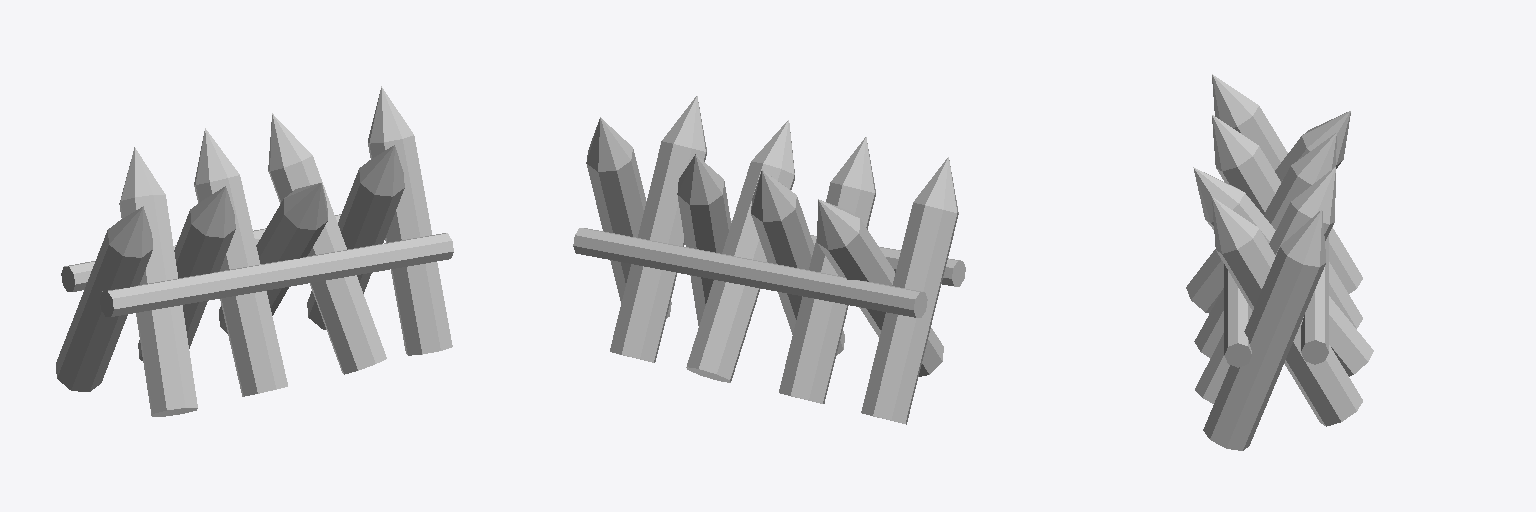
The model's file is Spike 2.obj.
3 views of the same model, side by side, from view 1: azimuth 30°, elevation 25°; view 2: azimuth 150°, elevation 25°; view 3: azimuth 270°, elevation 25° (orthographic).
Visible parts, largest first — view 1: Support_2_2, Spike_7_2, Spike_1_2, Spike_5_2, Spike_3_2, Spike_8_2, Spike_2_2, Spike_6_2, Spike_4_2, Support_bar_1_2; view 2: Spike_8_2, Support_bar_1_2, Spike_2_2, Spike_4_2, Spike_6_2, Spike_1_2, Spike_7_2, Spike_5_2, Spike_3_2, Support_2_2; view 3: Spike_1_2, Spike_2_2, Spike_6_2, Spike_4_2, Spike_8_2, Spike_3_2, Spike_5_2, Spike_7_2, Support_bar_1_2, Support_2_2.
Part boxes in pixels (left/top/right/bottom): Support_2_2: left=100, top=233, right=453, bottom=316; Spike_7_2: left=119, top=147, right=197, bottom=416; Spike_1_2: left=368, top=86, right=452, bottom=355; Spike_5_2: left=194, top=128, right=287, bottom=396; Spike_3_2: left=268, top=113, right=386, bottom=374; Spike_8_2: left=56, top=206, right=152, bottom=391; Spike_2_2: left=307, top=145, right=404, bottom=329; Spike_6_2: left=138, top=186, right=235, bottom=360; Spike_4_2: left=219, top=183, right=327, bottom=333; Support_bar_1_2: left=61, top=214, right=340, bottom=291; Spike_8_2: left=861, top=157, right=958, bottom=424; Support_bar_1_2: left=573, top=228, right=927, bottom=317; Spike_2_2: left=610, top=96, right=706, bottom=362; Spike_4_2: left=686, top=120, right=794, bottom=382; Spike_6_2: left=779, top=137, right=875, bottom=403; Spike_1_2: left=586, top=117, right=671, bottom=318; Spike_7_2: left=817, top=199, right=943, bottom=376; Spike_5_2: left=751, top=170, right=844, bottom=355; Spike_3_2: left=677, top=154, right=730, bottom=325; Support_2_2: left=731, top=221, right=965, bottom=286; Spike_1_2: left=1203, top=210, right=1325, bottom=450; Spike_2_2: left=1212, top=197, right=1362, bottom=426; Spike_6_2: left=1212, top=115, right=1362, bottom=328; Spike_4_2: left=1193, top=167, right=1373, bottom=376; Spike_8_2: left=1212, top=74, right=1362, bottom=293; Spike_3_2: left=1195, top=167, right=1335, bottom=403; Spike_5_2: left=1194, top=133, right=1336, bottom=358; Spike_7_2: left=1186, top=111, right=1350, bottom=313; Support_bar_1_2: left=1301, top=235, right=1328, bottom=364; Support_2_2: left=1224, top=264, right=1251, bottom=367.
Bounding box in the file's own units: 15.89 × 10.54 × 7.58.